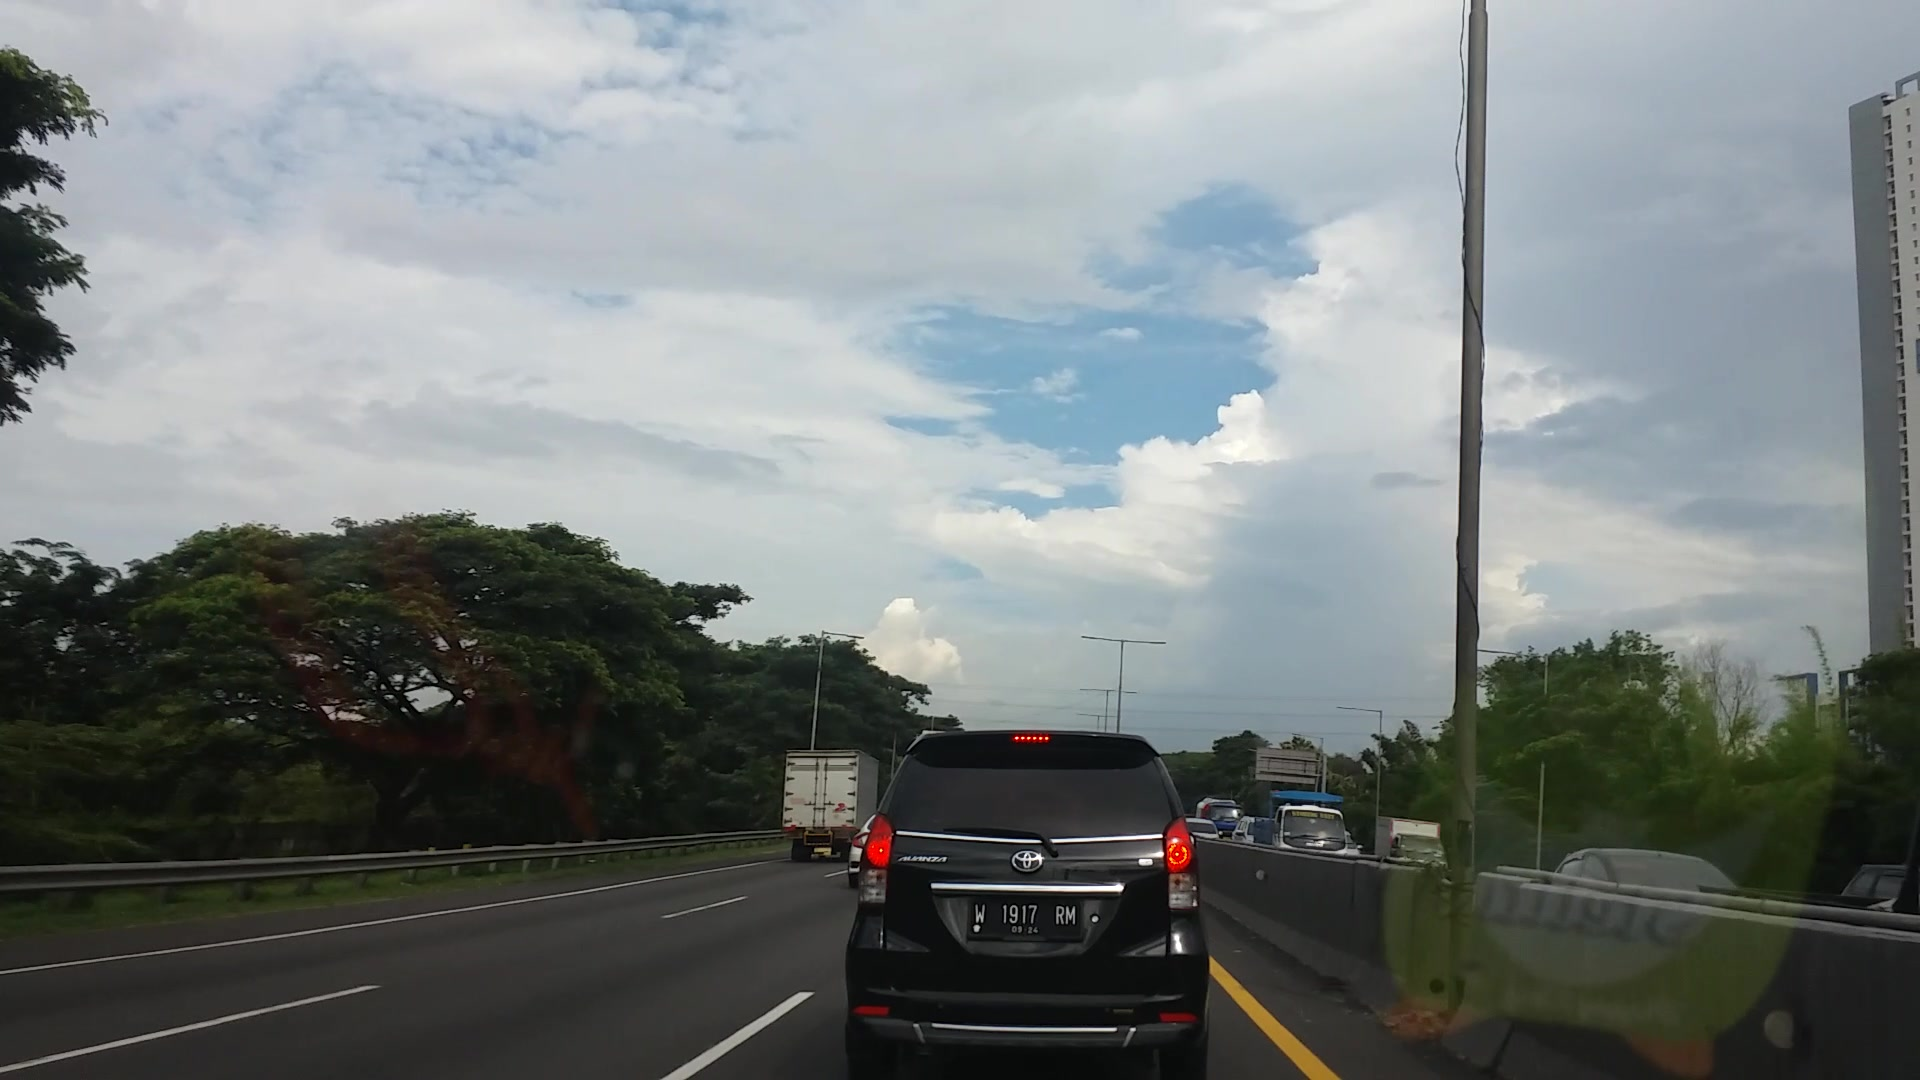plate_positive: (967, 895, 1083, 943)
